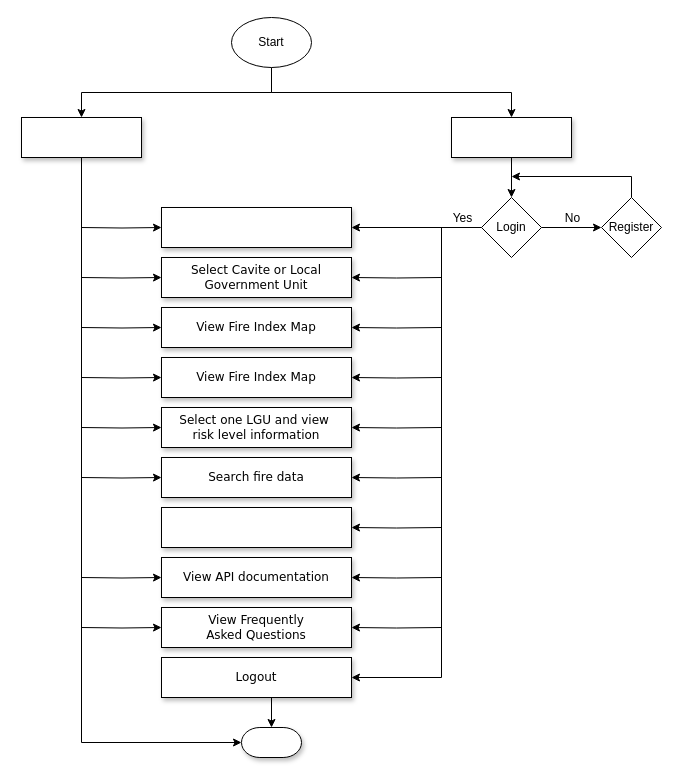
Some shapes in this 679 by 782 pixel diagram are drawn without their labels. Here are the shapes that lost their labels. From the top down, the centre of each, then its label:
the point at 82,138: User
the point at 512,138: Admin
the point at 257,228: View current fire incident/s information
the point at 257,528: Request fire data manually
the point at 272,743: End
